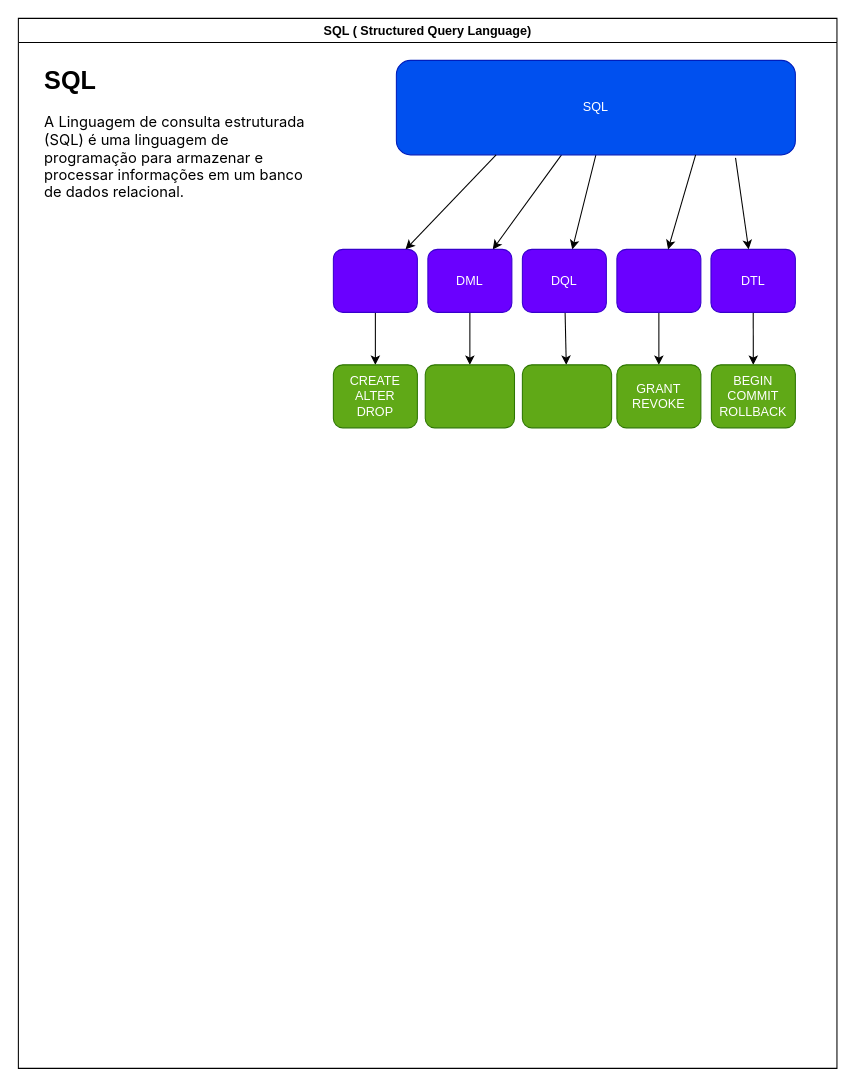
Some shapes in this 856 by 1087 pixel diagram are drawn without their labels. Each missing label, with the centre of its shape:
DCL: point 658,280
DDL: point 374,280
INSERT UPDATE DELETE: point 469,396
SELEC: point 566,396
